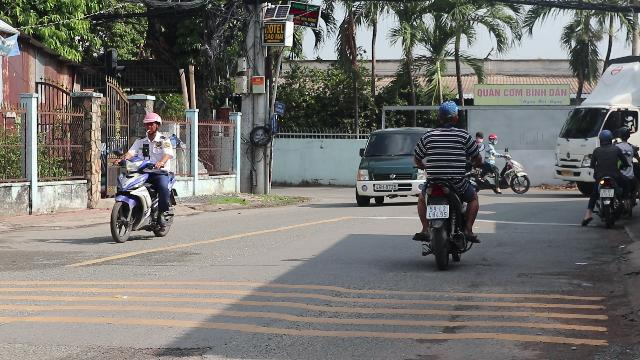helmet: (140, 112, 162, 138), (597, 128, 613, 146)
licenseplate: (426, 204, 448, 218), (600, 189, 614, 197)
motorcyclist: (408, 98, 484, 268), (108, 111, 178, 243), (584, 127, 636, 226)
nohelmet: (436, 102, 460, 126)
